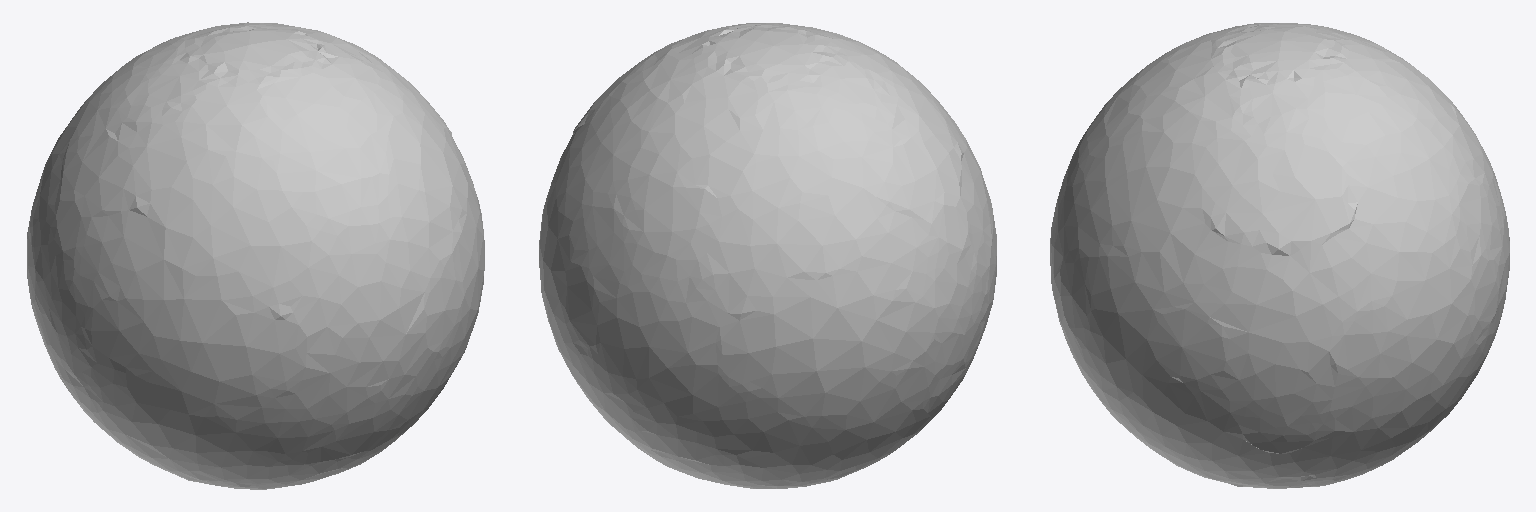
The model's file is TierraMeshy.obj.
3 renders of one model, left to right at view 1: azimuth 30°, elevation 25°; view 2: azimuth 150°, elevation 25°; view 3: azimuth 270°, elevation 25°, orthographic.
Parts seen in each view (by area): view 1: Realistic_Planet_Eart_[number redacted]_texture; view 2: Realistic_Planet_Eart_[number redacted]_texture; view 3: Realistic_Planet_Eart_[number redacted]_texture.
Boxes of the visible parts, x1=… form: Realistic_Planet_Eart_[number redacted]_texture: x1=27, y1=22, x2=484, y2=489; Realistic_Planet_Eart_[number redacted]_texture: x1=539, y1=23, x2=996, y2=488; Realistic_Planet_Eart_[number redacted]_texture: x1=1050, y1=23, x2=1509, y2=488.
Size of the model in its own units: 1.89 by 1.92 by 1.89.